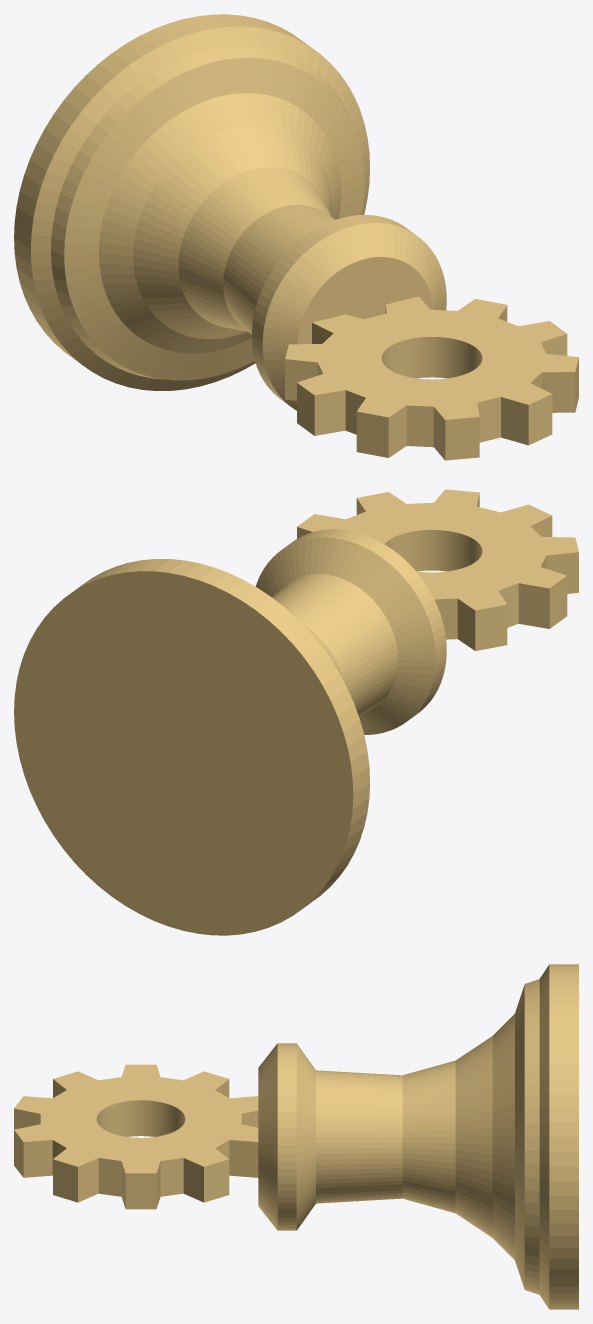
The model's file is yantrik_surya.glb.
3 views of the same model, one above another, from view 1: azimuth 30°, elevation 25°; view 2: azimuth 150°, elevation 25°; view 3: azimuth 270°, elevation 25° (orthographic). The views are drawn at different scales.
Parts seen in each view (by area): view 1: geometry_0; view 2: geometry_0; view 3: geometry_0.
Part boxes in pixels (box(x1,y1,x2,y2)): geometry_0: box(14, 14, 578, 460); geometry_0: box(14, 489, 578, 935); geometry_0: box(14, 964, 578, 1309).
Size of the model in its own units: 0.028 by 0.028 by 0.0458.
